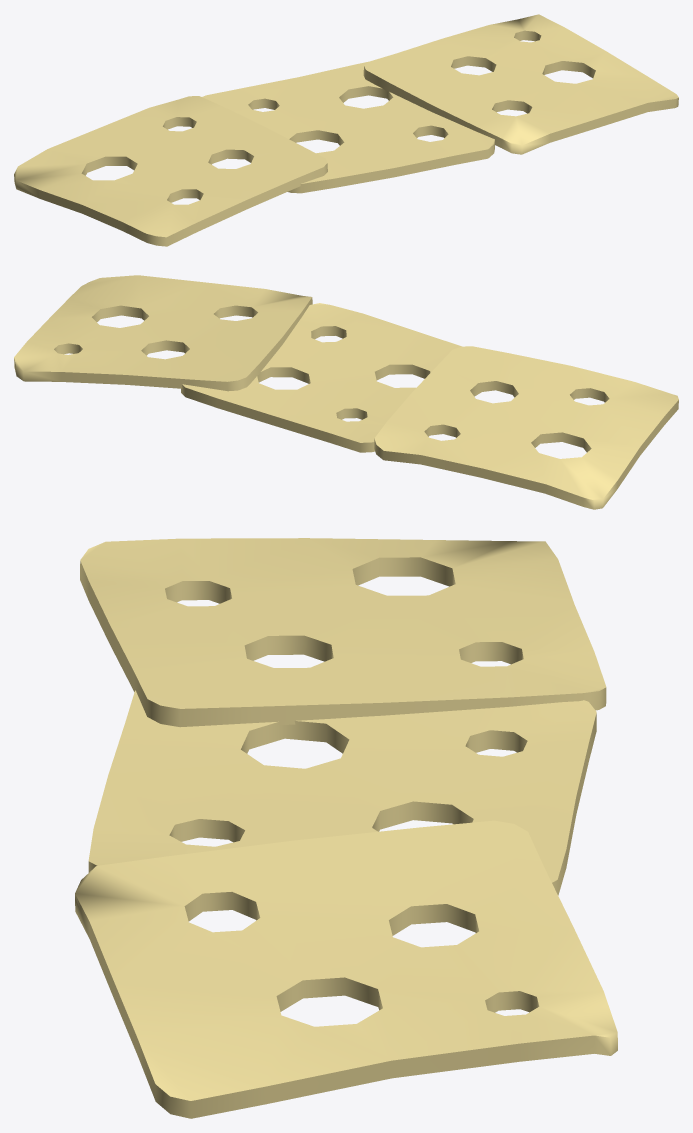
The model's file is Food_Swiss.fbx.
The picture shows the model from 3 angles, top to bottom: view 1: azimuth 30°, elevation 25°; view 2: azimuth 150°, elevation 25°; view 3: azimuth 270°, elevation 25°; orthographic projection. The views are drawn at different scales.
Parts seen in each view (by area): view 1: Cheese; view 2: Cheese; view 3: Cheese.
Part boxes in pixels (left/top/right/bottom): Cheese: left=14, top=14, right=678, bottom=246; Cheese: left=14, top=275, right=678, bottom=509; Cheese: left=75, top=538, right=617, bottom=1118.
Bounding box in the file's own units: 228 × 14.31 × 92.29.
